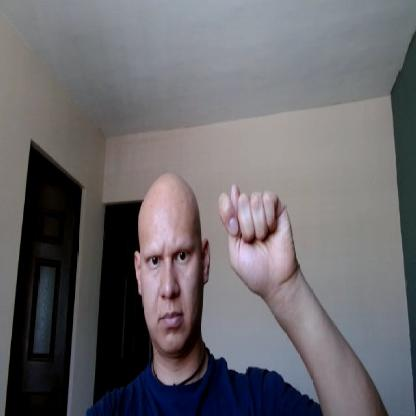T: (217, 179, 300, 289)
